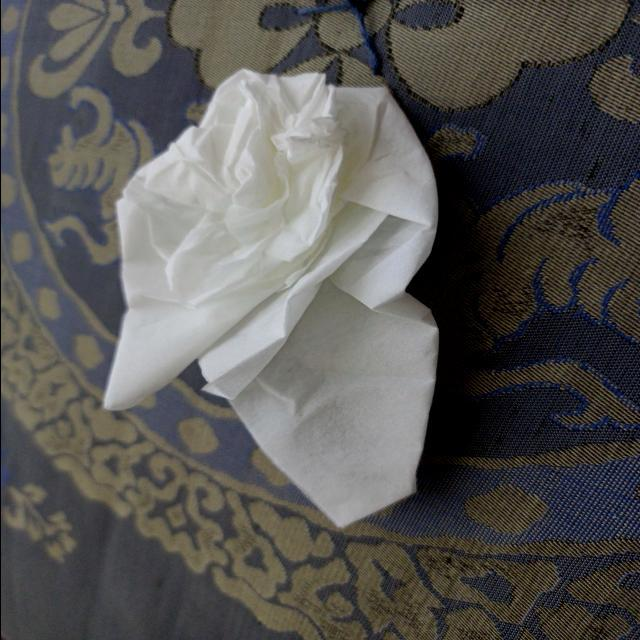Paper: (101, 89, 436, 527)
